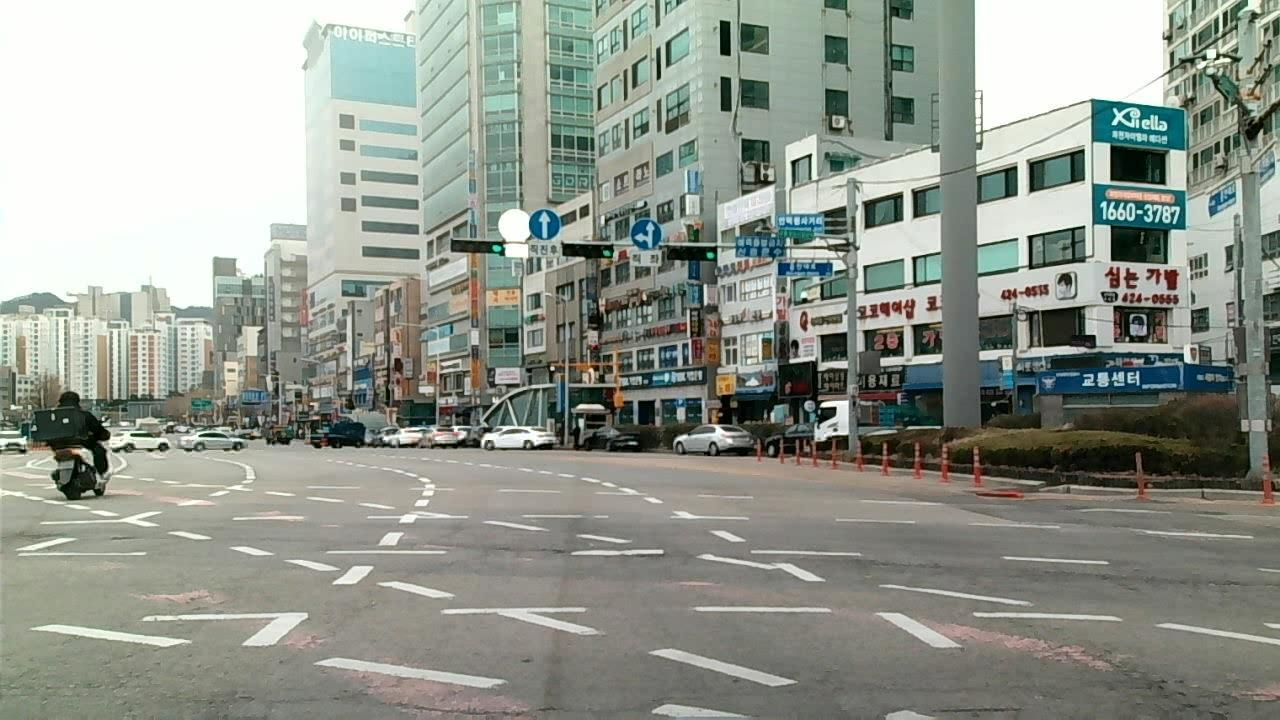banner: (1096, 653, 1245, 720), (244, 693, 554, 719), (1016, 564, 1253, 590), (468, 544, 569, 556), (849, 558, 942, 569)
